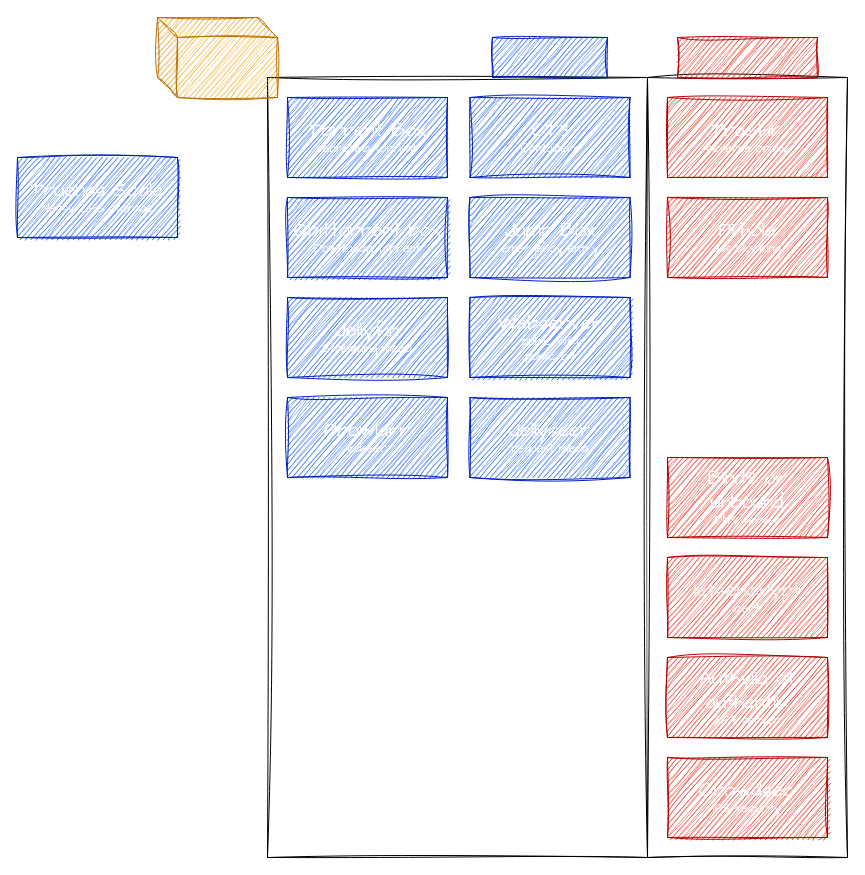
Some shapes in this 865 by 875 pixel diagram are drawn without their labels. Here are the shapes that lost their labels. From the top down, the centre of each, then its label:
At point (217, 57): "Proxmox".
At point (550, 57): "Prod network".
At point (747, 57): "infra network".
